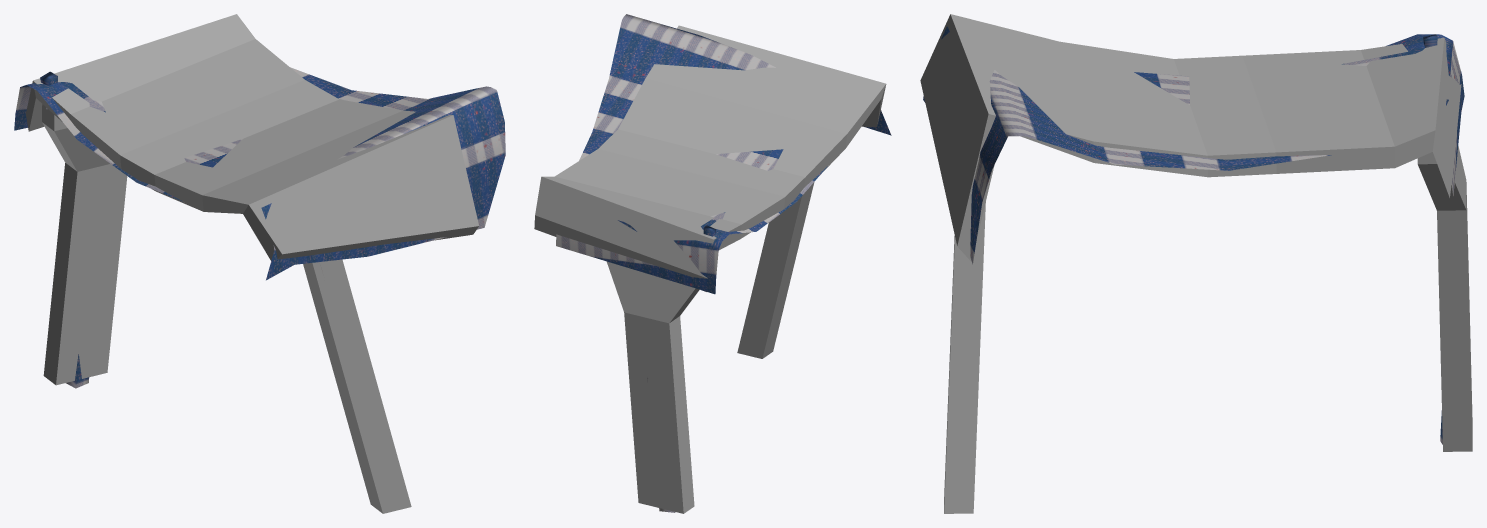
File: overhang.fbx
3 renders of one model, left to right at view 1: azimuth 30°, elevation 25°; view 2: azimuth 150°, elevation 25°; view 3: azimuth 270°, elevation 25°, orthographic. The views are drawn at different scales.
Parts seen in each view (by area): view 1: pCube197, pCube193; view 2: pCube197, pCube193; view 3: pCube197, pCube193.
Part boxes in pixels (x1=…): pCube197: x1=26, y1=14, x2=478, y2=513; pCube193: x1=14, y1=67, x2=505, y2=388; pCube197: x1=534, y1=25, x2=886, y2=513; pCube193: x1=556, y1=14, x2=891, y2=512; pCube197: x1=920, y1=14, x2=1472, y2=513; pCube193: x1=923, y1=26, x2=1468, y2=444.
Size of the model in its own units: 0.0568 by 0.0688 by 0.0773.
